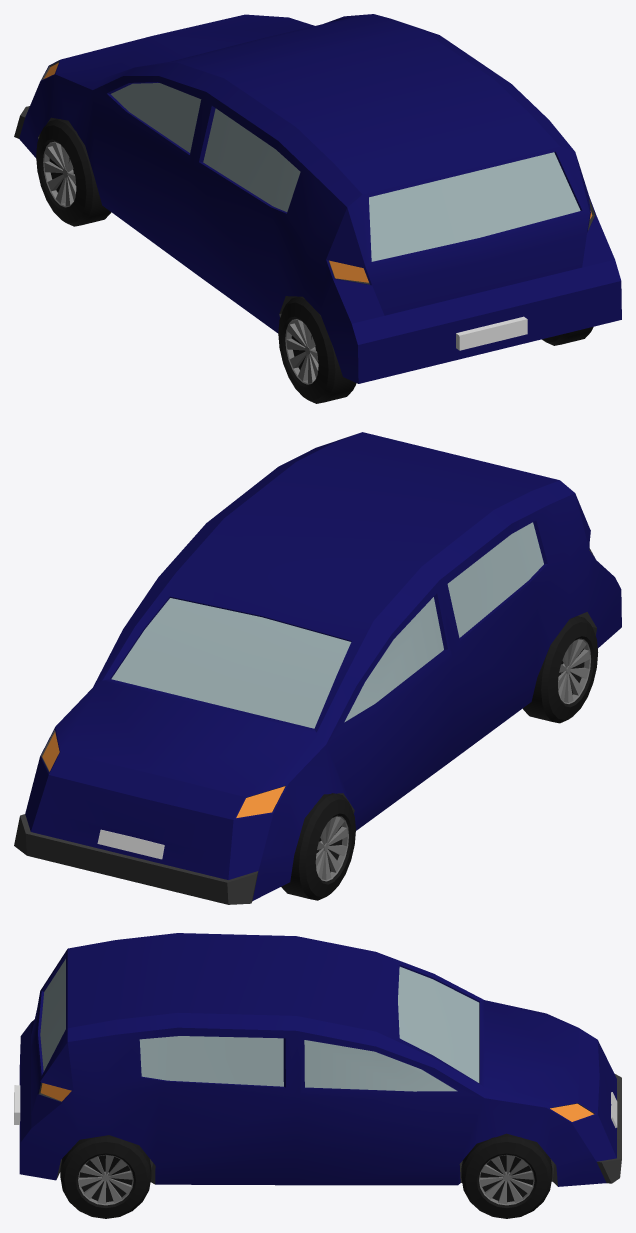
File: Vehicle_03.fbx
The picture shows the model from 3 angles, top to bottom: view 1: azimuth 30°, elevation 25°; view 2: azimuth 150°, elevation 25°; view 3: azimuth 270°, elevation 25°; orthographic projection. The views are drawn at different scales.
Parts seen in each view (by area): view 1: Cylinder.006; view 2: Cylinder.006; view 3: Cylinder.006.
Part boxes in pixels (x1,y1,x2,y2): Cylinder.006: (14, 14, 621, 403); Cylinder.006: (14, 432, 621, 904); Cylinder.006: (14, 933, 621, 1218).
Size of the model in its own units: 781 by 276 by 339.
